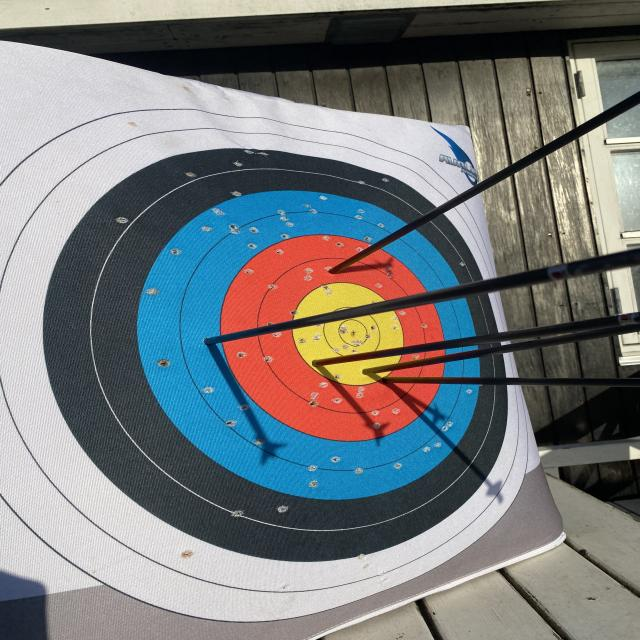Arrow_Blue: (188, 326, 232, 354)
Arrow_Red: (318, 250, 354, 281), (379, 369, 396, 394)
Arrow_Yellow: (307, 354, 345, 379), (352, 362, 374, 381)
